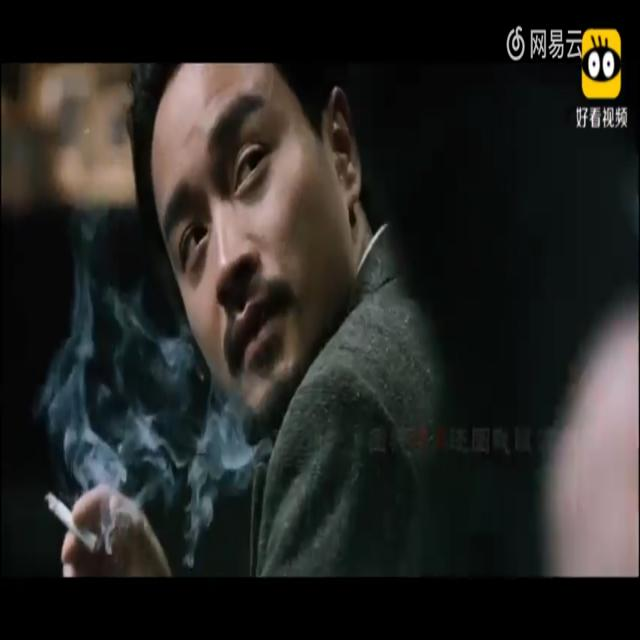smoke: (46, 489, 102, 556)
